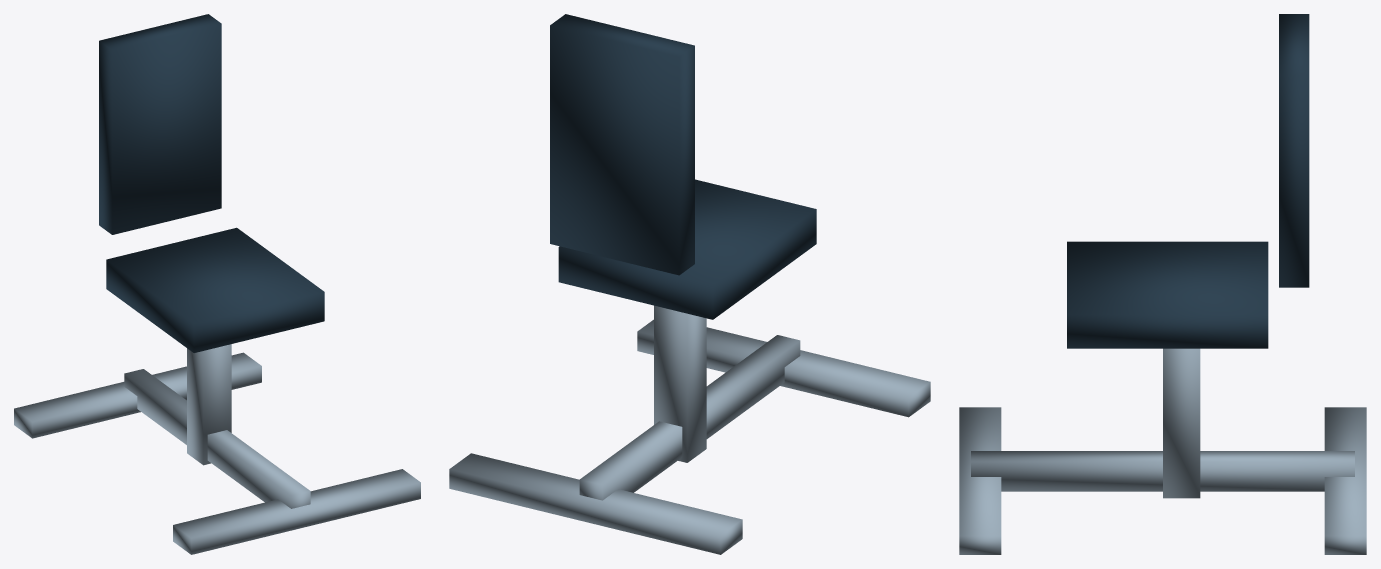
The model's file is upright_bench.glb.
The picture shows the model from 3 angles, left to right: view 1: azimuth 30°, elevation 25°; view 2: azimuth 150°, elevation 25°; view 3: azimuth 270°, elevation 25°; orthographic projection. The views are drawn at different scales.
Parts seen in each view (by area): view 1: back_pad, base, seat_pad, seat_post; view 2: back_pad, base, seat_pad, seat_post; view 3: base, seat_pad, back_pad, seat_post.
Part boxes in pixels (x1=…): back_pad: x1=99, y1=14, x2=221, y2=234; base: x1=14, y1=352, x2=420, y2=554; seat_pad: x1=106, y1=227, x2=324, y2=352; seat_post: x1=187, y1=344, x2=231, y2=465; back_pad: x1=550, y1=14, x2=694, y2=275; base: x1=449, y1=319, x2=930, y2=554; seat_pad: x1=558, y1=179, x2=816, y2=319; seat_post: x1=654, y1=305, x2=706, y2=462; base: x1=959, y1=407, x2=1366, y2=554; seat_pad: x1=1067, y1=241, x2=1268, y2=348; back_pad: x1=1279, y1=14, x2=1309, y2=287; seat_post: x1=1163, y1=348, x2=1200, y2=498.
Bounding box in the file's own units: 0.65 × 1.05 × 0.87.
